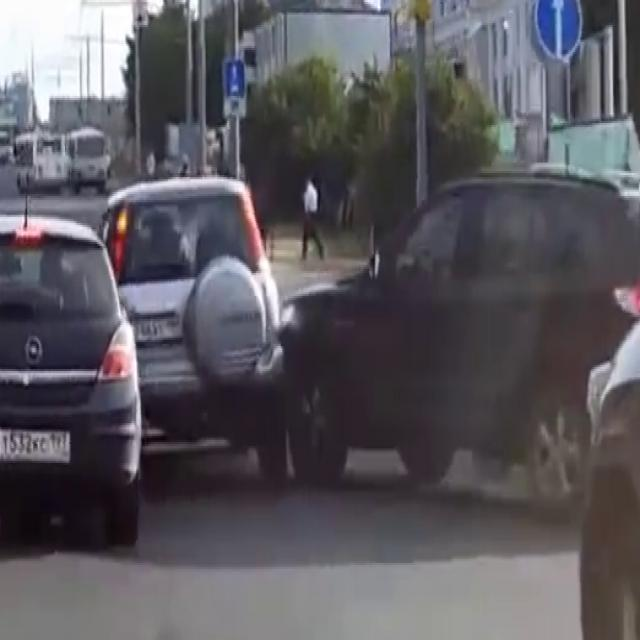accident: (176, 134, 524, 516)
